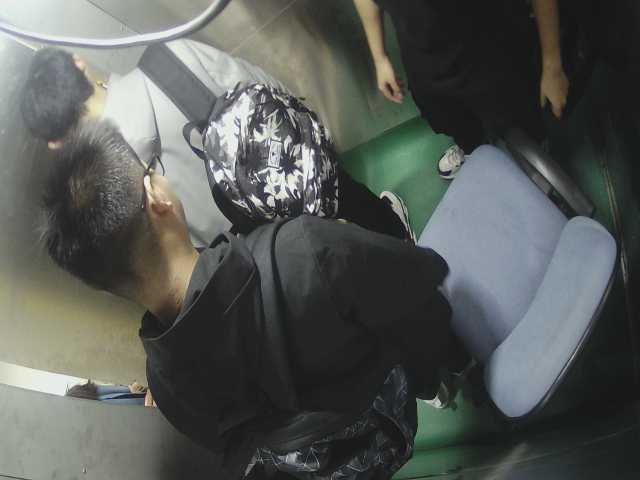bag: (180, 77, 352, 225)
chair: (410, 131, 622, 418)
person: (44, 126, 393, 432), (11, 29, 374, 218)
